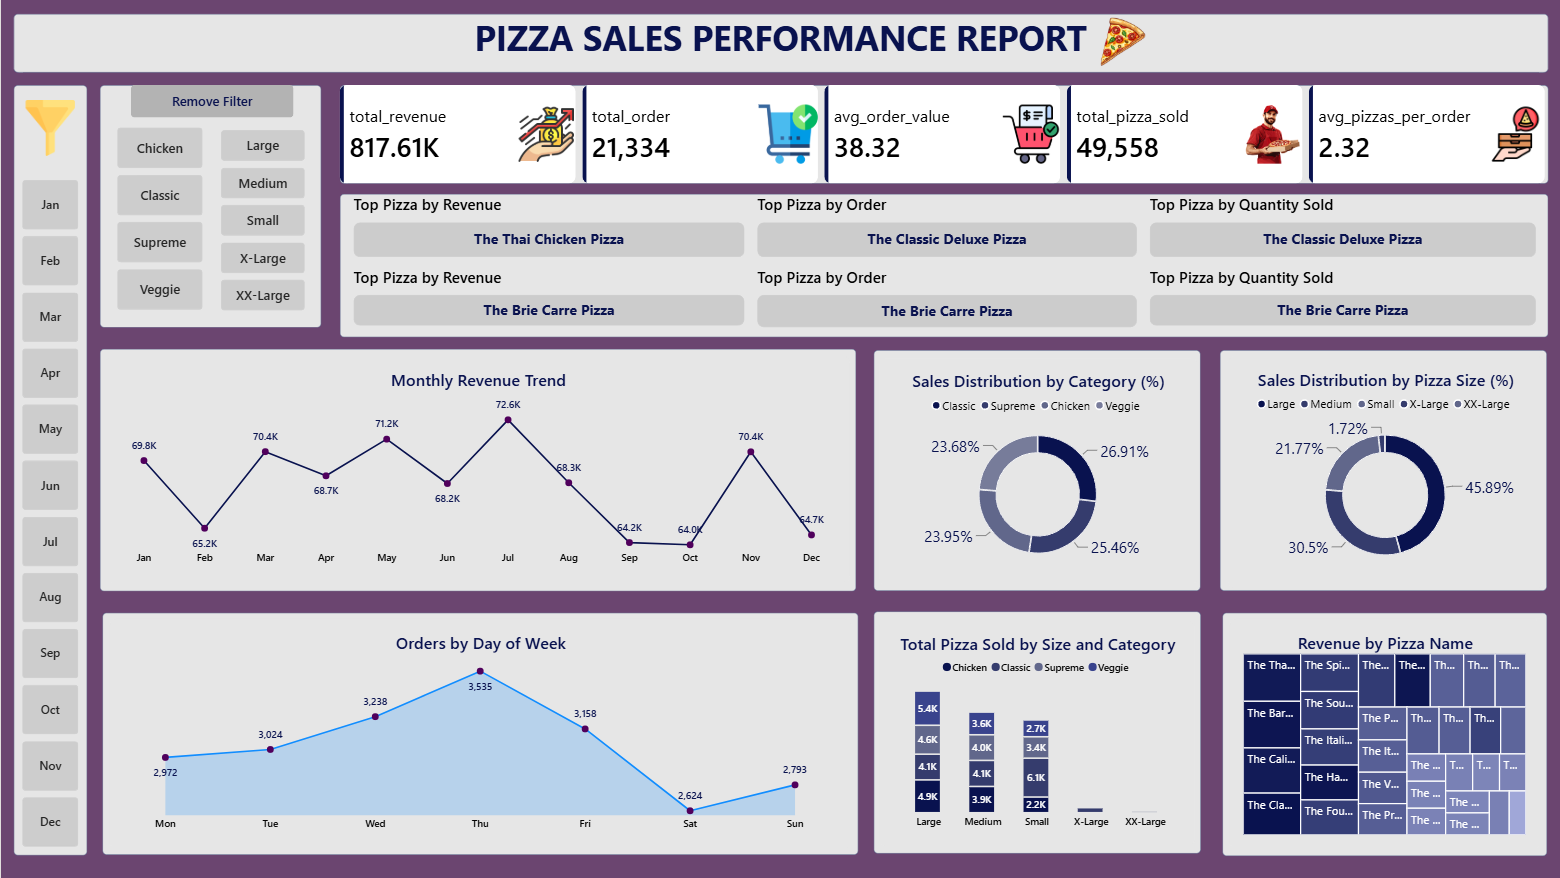

The page's visual inventory and layout, read from the dashboard file:
{"tool":"powerbi","page":{"name":"Dashboard","canvas":[1920,1080],"ordinal":0},"visuals":[{"type":"shape","box":[416.7,238.3,1486.7,176.8],"z":0},{"type":"shape","box":[1499.8,430.7,402.5,296.5],"z":1000},{"type":"shape","box":[416,104.5,1486.9,121.6],"z":2000},{"type":"cardVisual","fields":{"Data":["pizza_salse.total_revenue","pizza_salse.total_order","pizza_salse.avg_order_value","pizza_salse.total_pizza_sold","pizza_salse.avg_pizzas_per_order"]},"box":[416.7,104.5,1486.7,121.5],"z":3000},{"type":"shape","box":[14.9,17.1,1888,72.5],"z":4000},{"type":"shape","box":[15.1,103.9,90.9,947.9],"z":5000},{"type":"shape","box":[121.2,103.9,272.7,298.7],"z":6000},{"type":"shape","box":[121.2,428.5,930.6,298.7],"z":7000},{"type":"shape","box":[124.5,753.4,930.2,298.3],"z":8000},{"type":"shape","box":[1073.4,430.7,402.5,296.5],"z":9000},{"type":"shape","box":[1073.2,751.8,402.8,298.3],"z":10000},{"type":"shape","box":[1502.1,753.4,399.7,299.8],"z":11000},{"type":"lineChart","title":"Monthly Revenue Trend","fields":{"Y":["pizza_salse.total_revenue"],"Category":["pizza_salse.Month Name"]},"box":[129.1,438.2,914.8,278.3],"z":12000},{"type":"lineChart","title":"Orders by Day of Week ","fields":{"Y":["pizza_salse.total_order"],"Category":["pizza_salse.Day Name"]},"box":[133.8,761.1,911.7,282.9],"z":13000},{"type":"donutChart","title":"Sales Distribution by Category (%)","fields":{"Category":["pizza_salse.pizza_category"],"Y":["pizza_salse.total_revenue"]},"box":[1079.3,439.7,392.1,279.8],"z":14000},{"type":"donutChart","title":"Sales Distribution by Pizza Size (%)","fields":{"Y":["pizza_salse.total_revenue"],"Category":["pizza_salse.pizza_size"]},"box":[1508.3,438.2,389,284.4],"z":15000},{"type":"columnChart","title":"Total Pizza Sold by Size and Category","fields":{"Category":["pizza_salse.pizza_size"],"Y":["pizza_salse.total_pizza_sold"],"Series":["pizza_salse.pizza_category"]},"box":[1080.8,762.6,387.4,278.3],"z":16000},{"type":"treemap","title":"Revenue by Pizza Name","fields":{"Group":["pizza_salse.pizza_name"],"Values":["pizza_salse.total_revenue"]},"box":[1511.3,761.1,381.3,282.9],"z":17000},{"type":"advancedSlicerVisual","title":"Top Pizza by Revenue","fields":{"Values":["pizza_salse.pizza_name"]},"box":[433.6,238.3,481.2,78.4],"z":18000},{"type":"advancedSlicerVisual","title":"Top Pizza by Revenue","fields":{"Values":["pizza_salse.pizza_name"]},"box":[433.6,327.5,481.2,73.8],"z":19000},{"type":"advancedSlicerVisual","title":"Top Pizza by Order","fields":{"Values":["pizza_salse.pizza_name"]},"box":[930.2,238.3,467.4,78.4],"z":20000},{"type":"advancedSlicerVisual","title":"Top Pizza by Order","fields":{"Values":["pizza_salse.pizza_name"]},"box":[930.2,327.5,467.4,75.3],"z":21000},{"type":"advancedSlicerVisual","title":"Top Pizza by Quantity Sold","fields":{"Values":["pizza_salse.pizza_name"]},"box":[1412.9,238.3,475.1,78.4],"z":22000},{"type":"advancedSlicerVisual","title":"Top Pizza by  Quantity Sold","fields":{"Values":["pizza_salse.pizza_name"]},"box":[1412.9,327.5,475.1,73.8],"z":23000},{"type":"advancedSlicerVisual","fields":{"Values":["pizza_salse.Month Name"]},"box":[26.1,221.4,69.2,830.2],"z":24000},{"type":"advancedSlicerVisual","fields":{"Values":["pizza_salse.pizza_category"]},"box":[142.6,157.3,105.8,226.3],"z":25000},{"type":"advancedSlicerVisual","fields":{"Values":["pizza_salse.pizza_size"]},"box":[270.5,160.1,103.9,222.9],"z":26000},{"type":"actionButton","box":[159.9,104.5,199.9,40],"z":27000},{"type":"image","box":[15.4,123,90.7,69.2],"z":28000},{"type":"textbox","box":[15.1,17.3,1887.1,73.6],"z":29000},{"type":"image","box":[1316,16.2,124,70.1],"z":30000}]}

Visuals, with their boxes in screenshot pixels (x1, y1, x2, y2), scaled from the page's 1920x1080 canvas onto the 1560x878 screenshot:
shape: 339 194 1547 337
shape: 1219 350 1546 591
shape: 338 85 1546 184
cardVisual - pizza_salse.total_revenue x pizza_salse.total_order: 339 85 1547 184
shape: 12 14 1546 73
shape: 12 84 86 855
shape: 98 84 320 327
shape: 98 348 855 591
shape: 101 612 857 855
shape: 872 350 1199 591
shape: 872 611 1199 854
shape: 1220 612 1545 856
"Monthly Revenue Trend" lineChart: 105 356 848 582
"Orders by Day of Week " lineChart: 109 619 849 849
"Sales Distribution by Category (%)" donutChart: 877 357 1196 585
"Sales Distribution by Pizza Size (%)" donutChart: 1225 356 1542 587
"Total Pizza Sold by Size and Category" columnChart: 878 620 1193 846
"Revenue by Pizza Name" treemap: 1228 619 1538 849
"Top Pizza by Revenue" advancedSlicerVisual: 352 194 743 257
"Top Pizza by Revenue" advancedSlicerVisual: 352 266 743 326
"Top Pizza by Order" advancedSlicerVisual: 756 194 1136 257
"Top Pizza by Order" advancedSlicerVisual: 756 266 1136 327
"Top Pizza by Quantity Sold" advancedSlicerVisual: 1148 194 1534 257
"Top Pizza by  Quantity Sold" advancedSlicerVisual: 1148 266 1534 326
advancedSlicerVisual - pizza_salse.Month Name: 21 180 77 855
advancedSlicerVisual - pizza_salse.pizza_category: 116 128 202 312
advancedSlicerVisual - pizza_salse.pizza_size: 220 130 304 311
actionButton: 130 85 292 117
image: 13 100 86 156
textbox: 12 14 1546 74
image: 1069 13 1170 70
